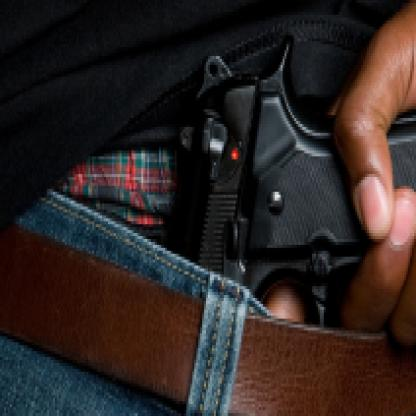gun: (167, 21, 414, 348)
